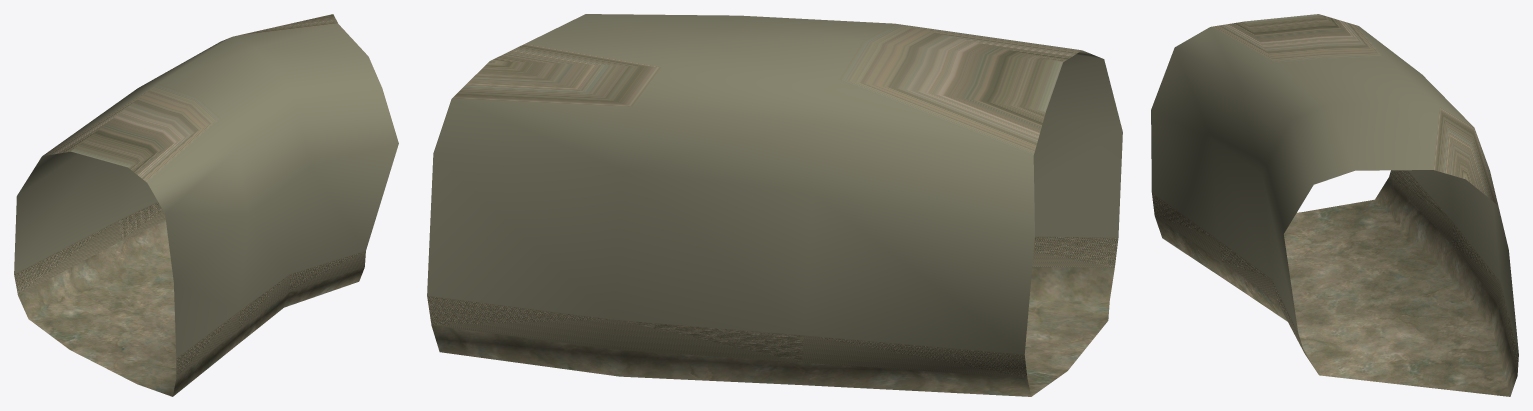
The model's file is OVERHILL_A_01_OH_B_OBJECT46.fbx.
The picture shows the model from 3 angles, left to right: view 1: azimuth 30°, elevation 25°; view 2: azimuth 150°, elevation 25°; view 3: azimuth 270°, elevation 25°; orthographic projection. The views are drawn at different scales.
Parts seen in each view (by area): view 1: OVERHILL_A_01_OH_B_OBJECT46; view 2: OVERHILL_A_01_OH_B_OBJECT46; view 3: OVERHILL_A_01_OH_B_OBJECT46.
Part boxes in pixels (x1,y1,x2,y2): OVERHILL_A_01_OH_B_OBJECT46: (14,14,398,396); OVERHILL_A_01_OH_B_OBJECT46: (427,14,1122,396); OVERHILL_A_01_OH_B_OBJECT46: (1151,14,1518,396).
Bounding box in the file's own units: 45701 × 26107 × 36655.
Materials: 1 (1 with a texture image).
